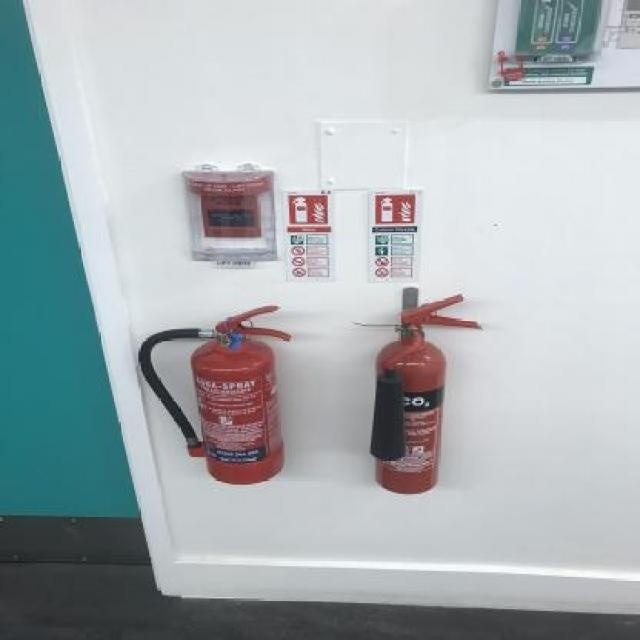fire extinguisher: (138, 303, 294, 486), (372, 285, 483, 497)
